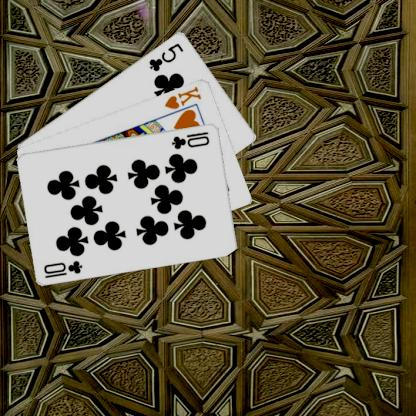10C: (41, 257, 84, 279), (169, 129, 211, 150)
5C: (146, 40, 185, 73)
KH: (162, 84, 203, 110)
